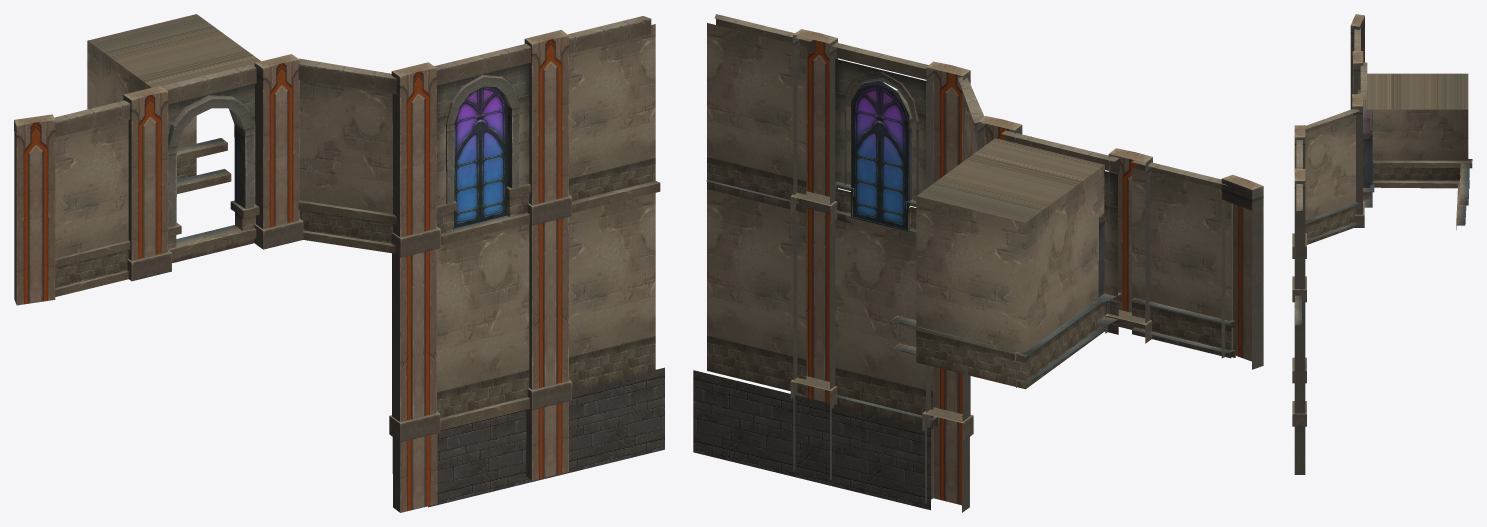
The model's file is terrain_section03_guanka11_bj01.FBX.
3 views of the same model, side by side, from view 1: azimuth 30°, elevation 25°; view 2: azimuth 150°, elevation 25°; view 3: azimuth 270°, elevation 25° (orthographic). The views are drawn at different scales.
Visible parts, largest first — view 1: terrain_section03_guanka11_bj01; view 2: terrain_section03_guanka11_bj01; view 3: terrain_section03_guanka11_bj01.
Boxes of the visible parts, x1,y1,x2,y2 form: terrain_section03_guanka11_bj01: [14, 14, 664, 512]; terrain_section03_guanka11_bj01: [693, 14, 1263, 512]; terrain_section03_guanka11_bj01: [1292, 14, 1472, 474].
Size of the model in its own units: 38.88 by 27.1 by 14.78.
